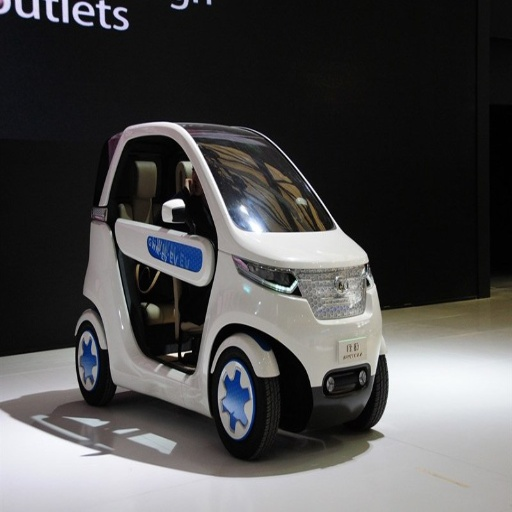front_bumper: (257, 312, 383, 424)
front_right_door: (129, 136, 212, 348)
front_right_light: (238, 261, 354, 320)
